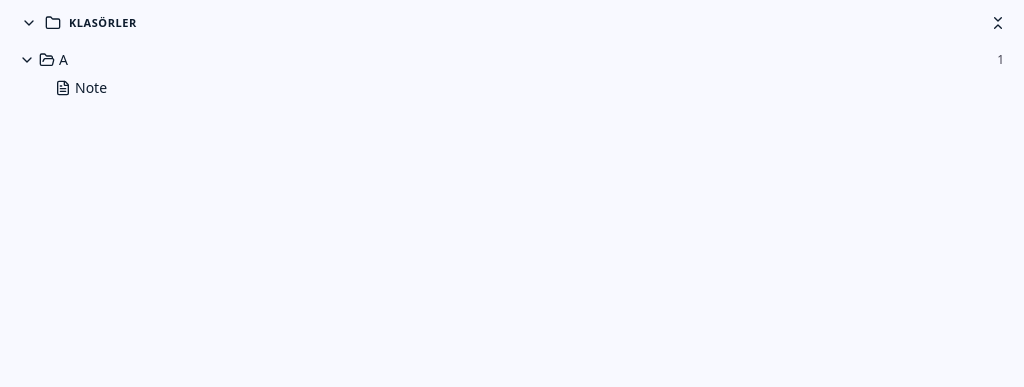
Test: SidebarTree keyboard focus › labels PDF export on Win32
The image size is (1024, 387).
Right-click the list item with aria-label "Not: Note" at [81, 88], box [55,78,107,97]
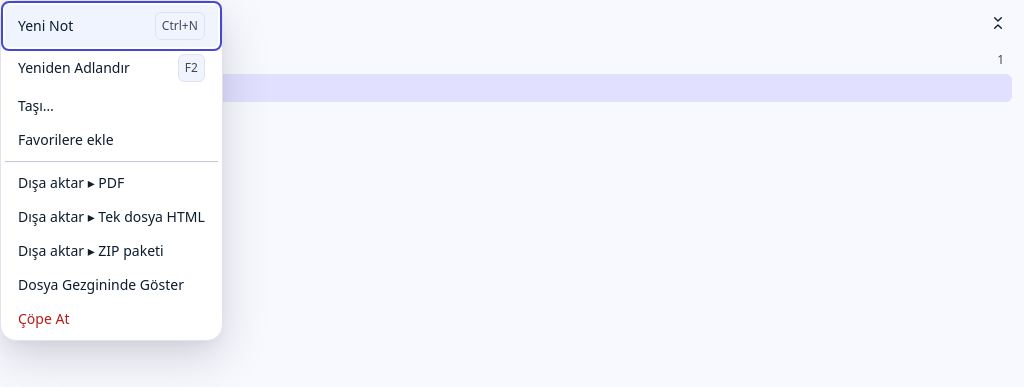
Expected: the menu item "Dışa aktar ▸ PDF" is enabled, [5,166,218,200]
